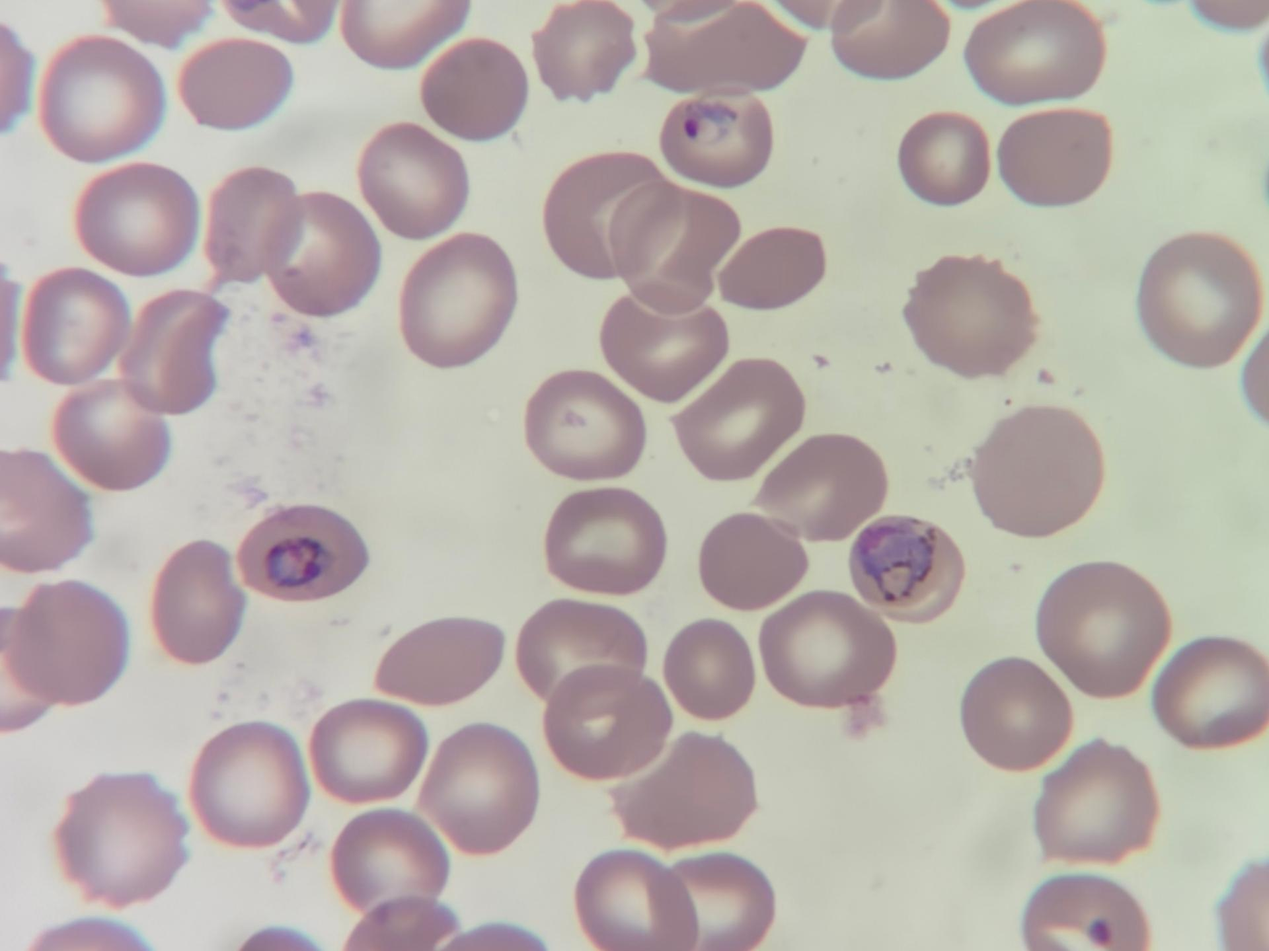Infected: (846, 515, 958, 623), (238, 505, 370, 596), (659, 86, 772, 186)
Uninfected: (1038, 562, 1171, 699), (54, 773, 186, 905), (614, 732, 756, 851), (972, 406, 1102, 535), (1134, 233, 1262, 364), (903, 252, 1035, 375), (37, 35, 164, 161), (672, 360, 802, 482), (543, 149, 665, 278), (397, 234, 516, 366), (648, 1, 812, 95), (423, 721, 536, 856), (3, 581, 124, 707), (605, 182, 722, 312), (757, 593, 888, 709), (189, 722, 309, 847), (1035, 738, 1155, 862), (542, 668, 668, 781), (966, 0, 1102, 103), (541, 485, 666, 595), (75, 162, 197, 274), (758, 430, 882, 540), (116, 289, 224, 414), (1150, 636, 1269, 749), (523, 369, 645, 479), (52, 381, 170, 494), (268, 194, 377, 316), (517, 597, 647, 699), (601, 293, 722, 400), (20, 266, 128, 385), (358, 124, 469, 237), (960, 659, 1071, 769), (309, 699, 425, 803), (373, 617, 508, 706), (330, 807, 446, 910), (996, 106, 1111, 207), (575, 852, 693, 950), (151, 540, 244, 663), (418, 37, 526, 140), (204, 166, 300, 281), (176, 38, 291, 132), (2, 451, 89, 573), (533, 1, 633, 104), (698, 514, 802, 611), (829, 1, 946, 79), (896, 110, 989, 205), (664, 620, 753, 718), (718, 228, 825, 308)
